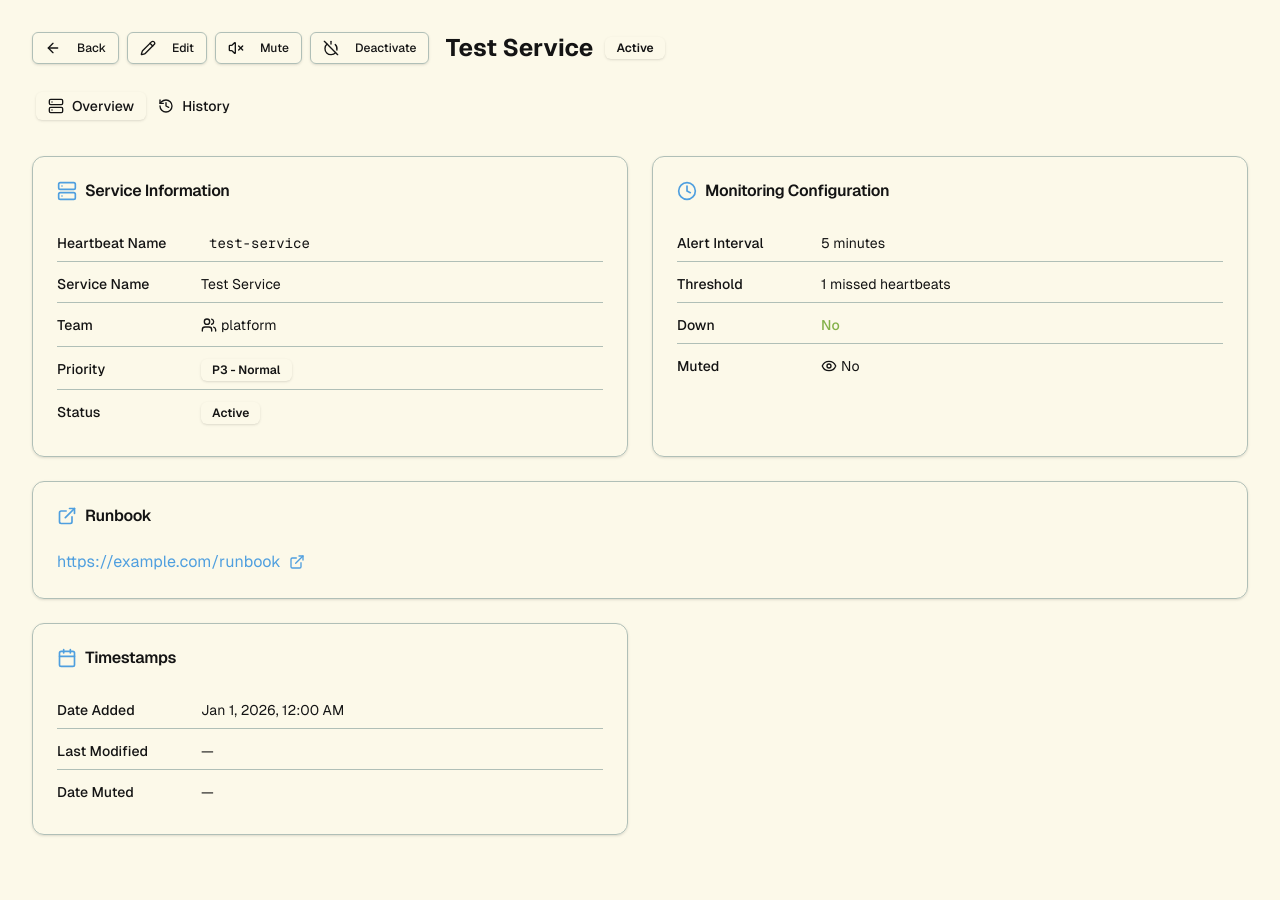
ServiceDetail - Edit Button › modal interaction › closes modal when Cancel is clicked
The width and height of the screenshot is (1280, 900).
Open modal
Click the button "Edit" at [167, 48], box [127,32,207,64]
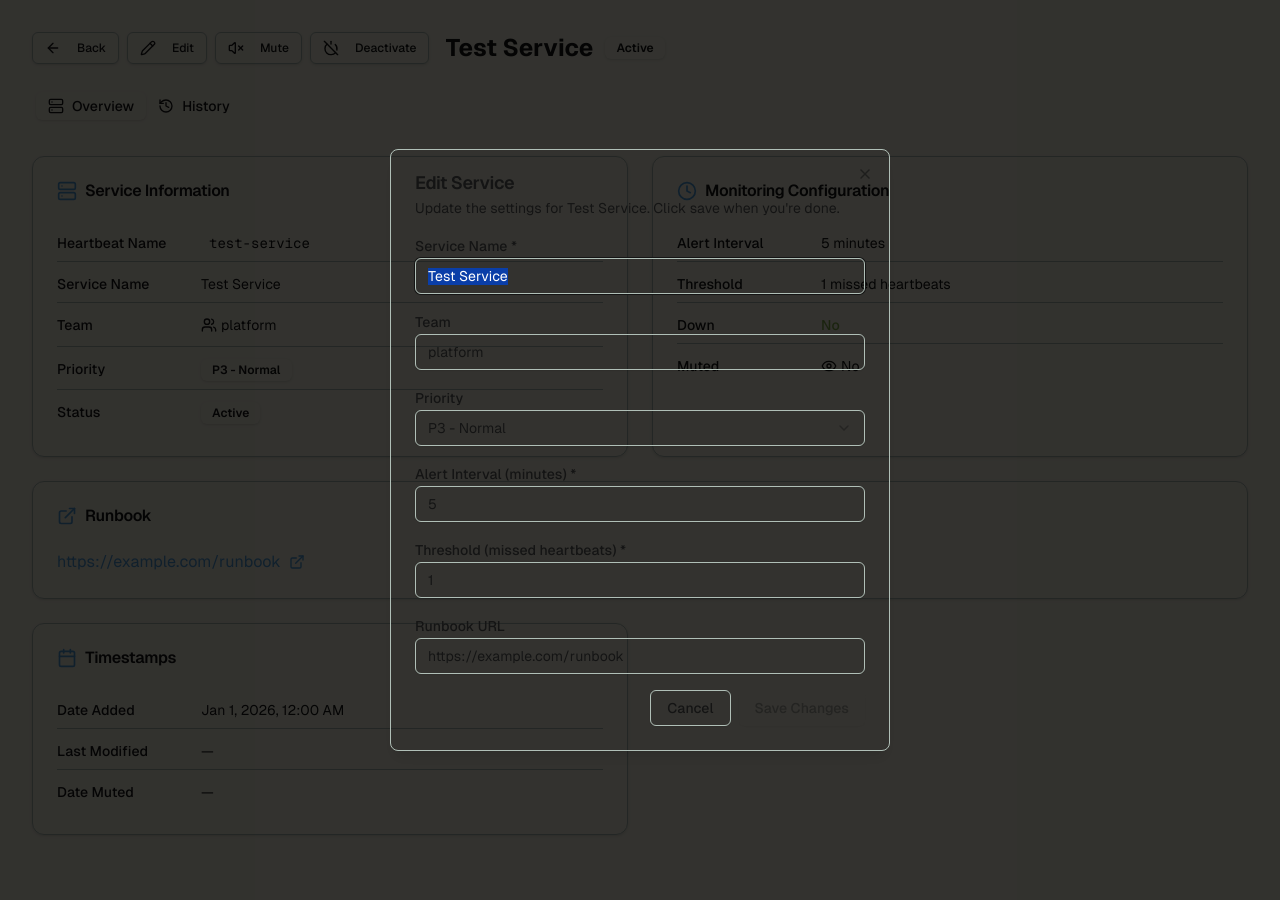
Expected: the dialog is shown, [390,149,890,751]
Close modal via Cancel button
Click the button "Cancel" at [690, 708], box [650,690,731,726]
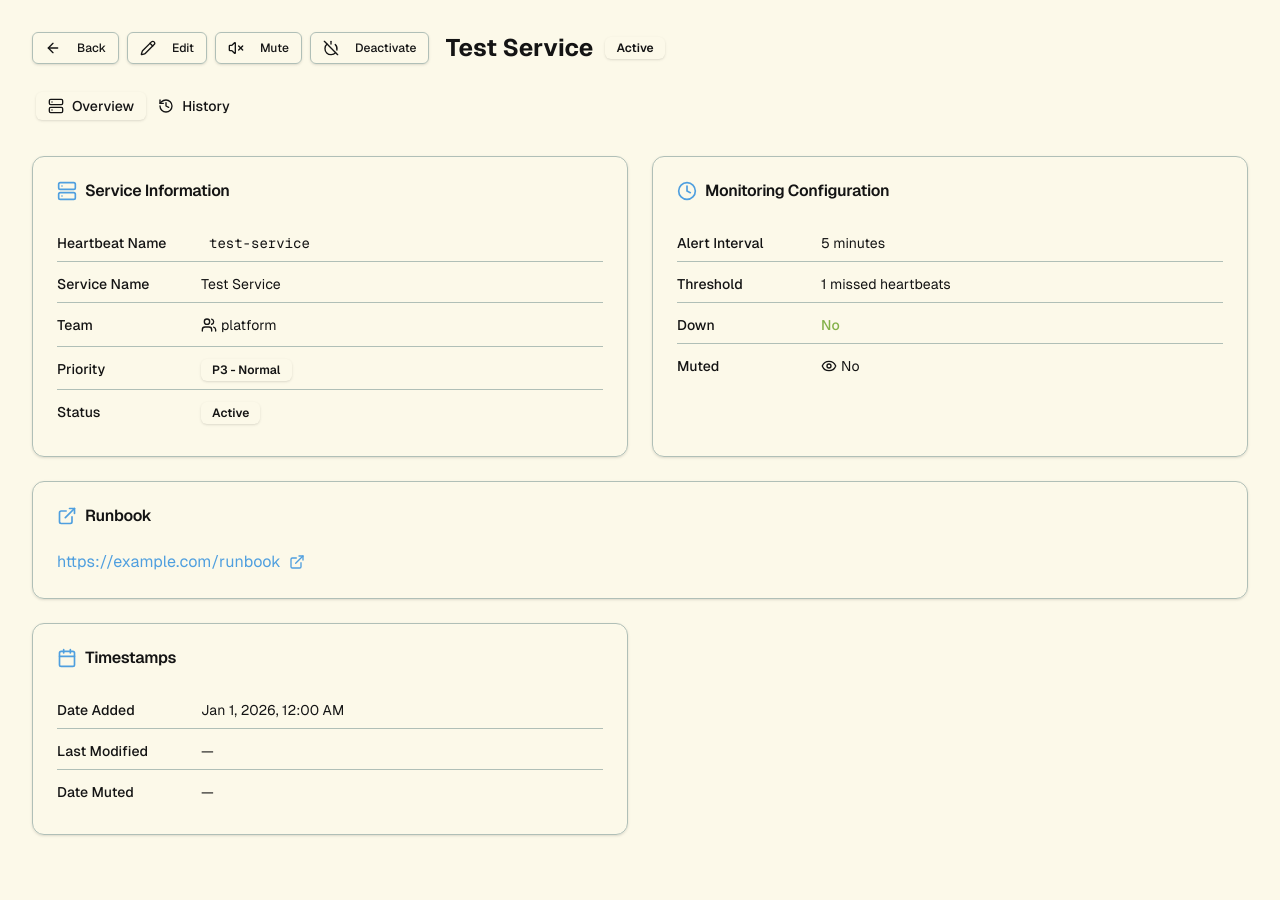
Expected: the dialog is gone
